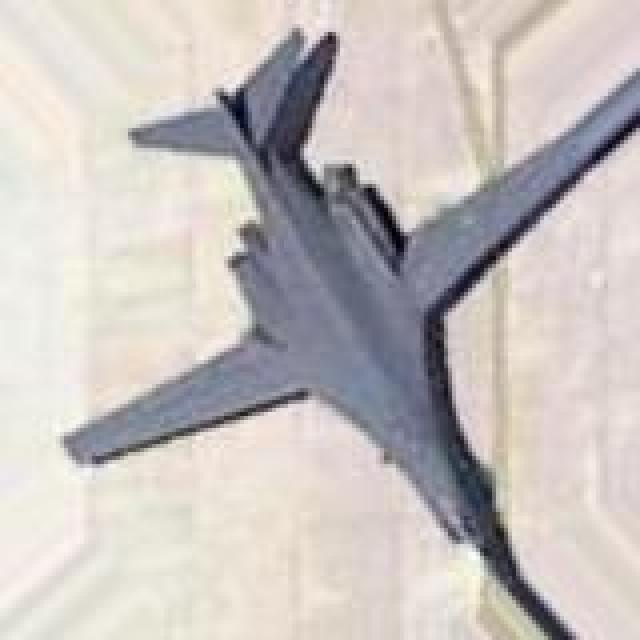B-1_TopDown: (56, 20, 636, 636)
